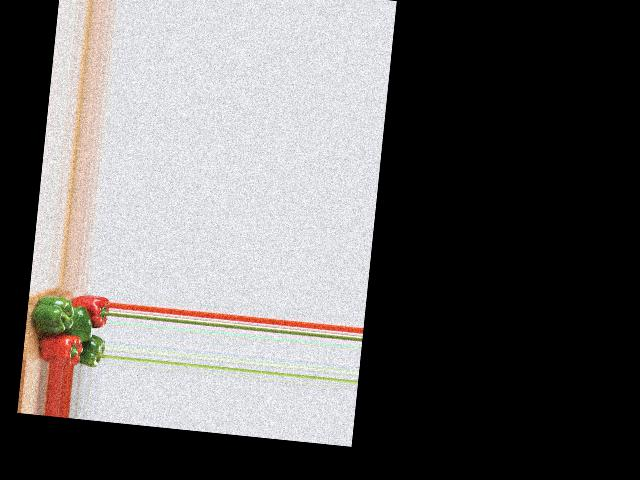bell_pepper: (33, 329, 82, 366)
